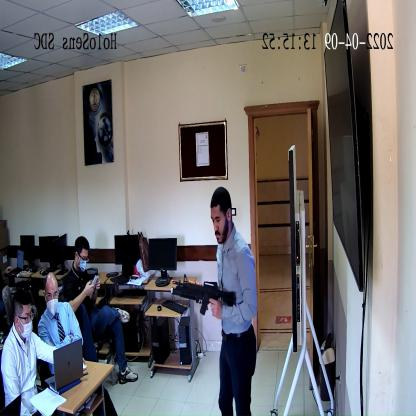handgun: (172, 272, 235, 318)
